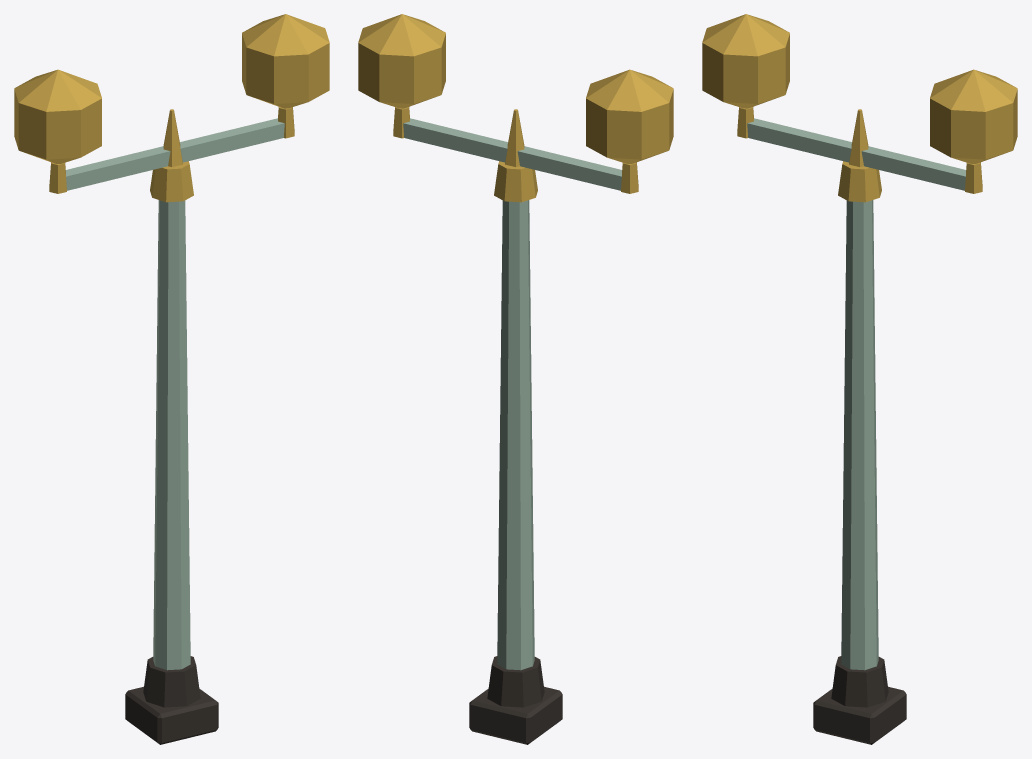
The model's file is sl_pathofgold.glb.
3 renders of one model, left to right at view 1: azimuth 30°, elevation 25°; view 2: azimuth 150°, elevation 25°; view 3: azimuth 330°, elevation 25°, orthographic.
Visible parts, largest first — view 1: sl_pathofgold_column, sl_pathofgold_globe1, sl_pathofgold_globe-1, sl_pathofgold_crossarm, sl_pathofgold_plinth, sl_pathofgold_collar, sl_pathofgold_capital, sl_pathofgold_finial; view 2: sl_pathofgold_column, sl_pathofgold_globe1, sl_pathofgold_globe-1, sl_pathofgold_crossarm, sl_pathofgold_plinth, sl_pathofgold_collar, sl_pathofgold_capital, sl_pathofgold_finial; view 3: sl_pathofgold_column, sl_pathofgold_globe-1, sl_pathofgold_globe1, sl_pathofgold_crossarm, sl_pathofgold_plinth, sl_pathofgold_collar, sl_pathofgold_capital, sl_pathofgold_finial.
Part boxes in pixels (box(x1,y1,x2,y2)): sl_pathofgold_column: box(153, 200, 190, 670); sl_pathofgold_globe1: box(242, 14, 329, 108); sl_pathofgold_globe-1: box(14, 69, 101, 163); sl_pathofgold_crossarm: box(66, 118, 284, 190); sl_pathofgold_plinth: box(125, 686, 218, 744); sl_pathofgold_collar: box(143, 656, 200, 707); sl_pathofgold_capital: box(150, 161, 193, 202); sl_pathofgold_finial: box(163, 109, 182, 166); sl_pathofgold_column: box(497, 200, 534, 670); sl_pathofgold_globe1: box(358, 14, 445, 108); sl_pathofgold_globe-1: box(586, 69, 673, 163); sl_pathofgold_crossarm: box(403, 118, 621, 190); sl_pathofgold_plinth: box(469, 686, 562, 744); sl_pathofgold_collar: box(487, 656, 544, 707); sl_pathofgold_capital: box(494, 161, 537, 202); sl_pathofgold_finial: box(505, 109, 524, 166); sl_pathofgold_column: box(841, 200, 878, 670); sl_pathofgold_globe-1: box(702, 14, 789, 108); sl_pathofgold_globe1: box(930, 69, 1017, 163); sl_pathofgold_crossarm: box(747, 118, 965, 190); sl_pathofgold_plinth: box(813, 686, 906, 744); sl_pathofgold_collar: box(831, 656, 888, 707); sl_pathofgold_capital: box(838, 161, 881, 202); sl_pathofgold_finial: box(849, 109, 868, 166).
Size of the model in its own units: 3.1 by 6.61 by 0.7967.
